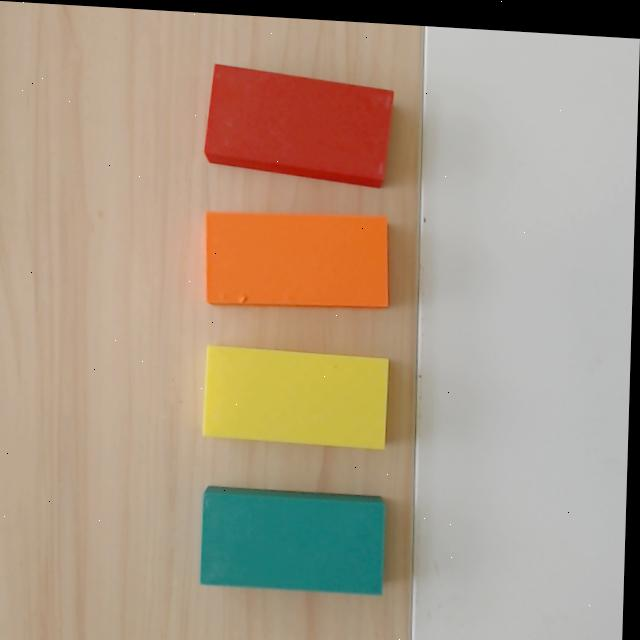Balok-Hijau-1005025: (198, 486, 388, 594)
Balok-Jingga-1005025: (203, 210, 390, 309)
Balok-Kuning-1005025: (200, 343, 392, 450)
Balok-Merah-1005025: (200, 62, 398, 188)
